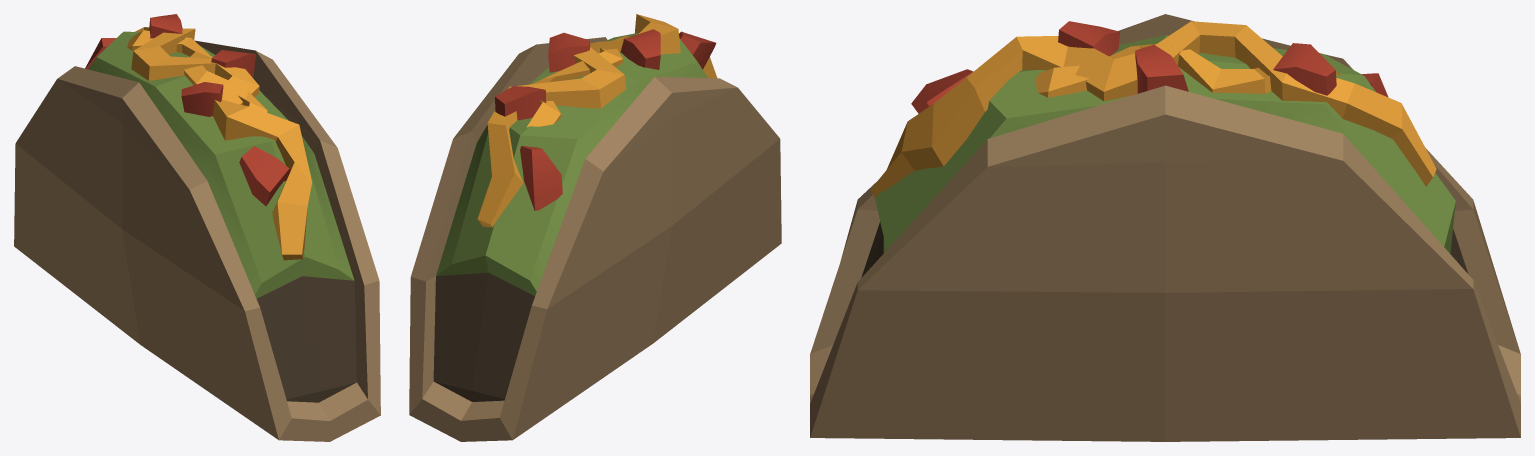
File: SM_Prop_LargeSign_Taco_01.fbx
3 renders of one model, left to right at view 1: azimuth 30°, elevation 25°; view 2: azimuth 150°, elevation 25°; view 3: azimuth 270°, elevation 25°, orthographic. The views are drawn at different scales.
Parts seen in each view (by area): view 1: SM_Prop_LargeSign_Taco_01; view 2: SM_Prop_LargeSign_Taco_01; view 3: SM_Prop_LargeSign_Taco_01.
Part boxes in pixels (x1,y1,x2,y2): SM_Prop_LargeSign_Taco_01: (14, 14, 380, 441); SM_Prop_LargeSign_Taco_01: (409, 14, 781, 441); SM_Prop_LargeSign_Taco_01: (810, 14, 1520, 441).
Bounding box in the file's own units: 122 × 222 × 370.
